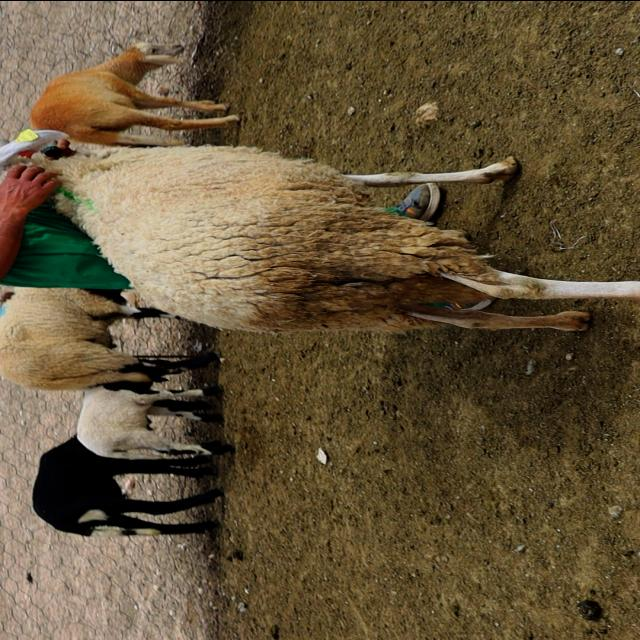Score_3: (0, 129, 639, 332)
